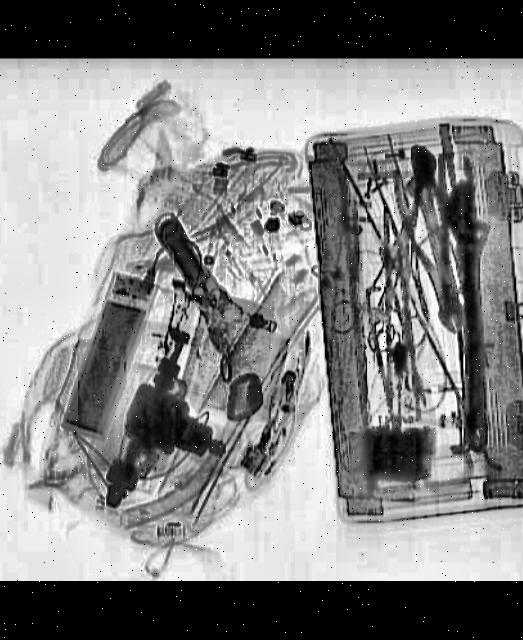Wrench: (440, 181, 503, 452), (396, 138, 478, 332)
